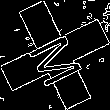M_NE: (22, 24, 88, 86)
